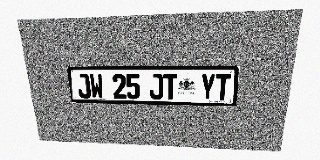2: (112, 74, 127, 99)
5: (126, 74, 140, 99)
J: (76, 74, 91, 98), (149, 74, 163, 99)
T: (215, 74, 231, 100), (163, 74, 177, 100)
W: (89, 74, 104, 98)
Y: (200, 74, 216, 100)
